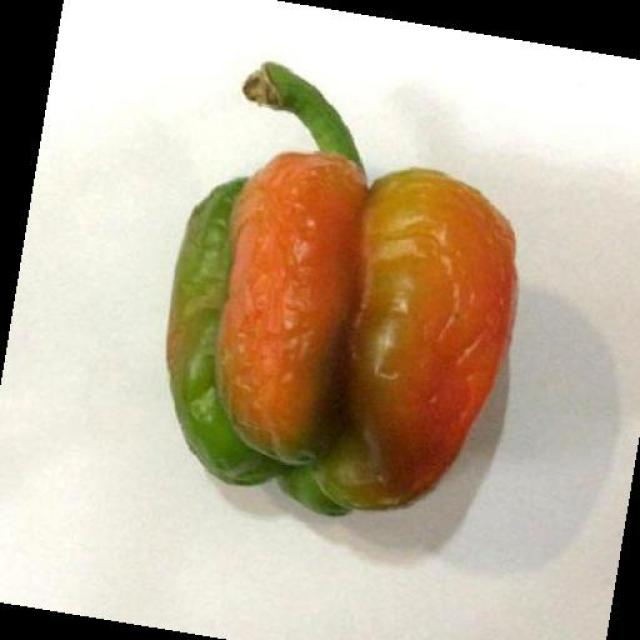Stale_Capsicum: (155, 97, 487, 510)
